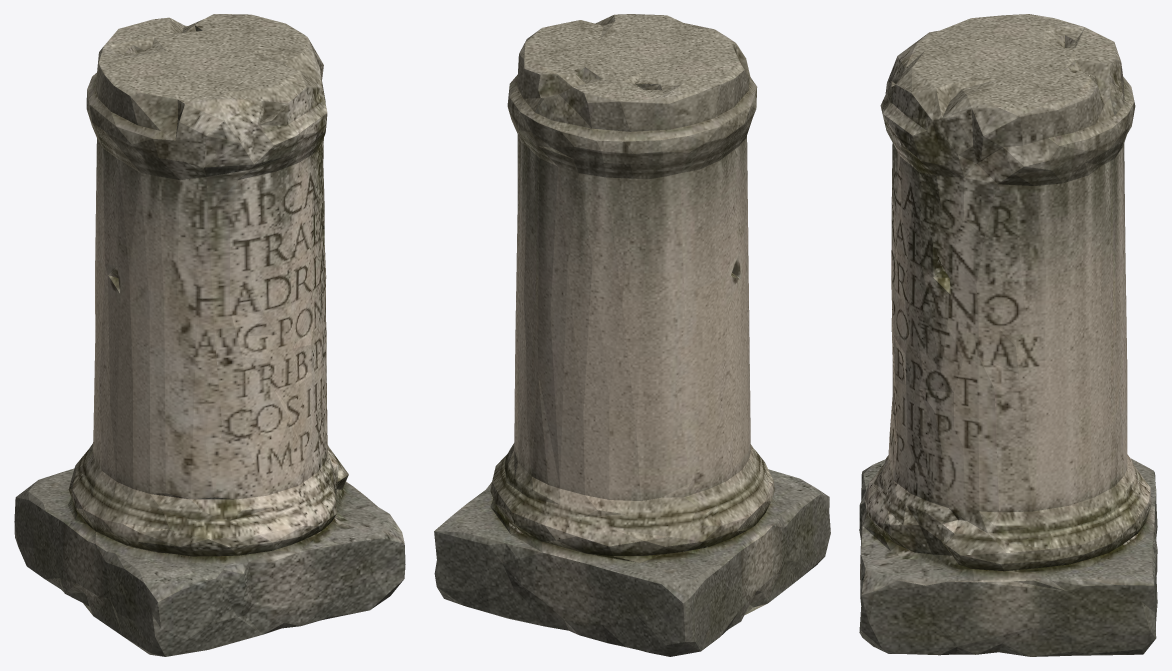
File: mile.glb
The picture shows the model from 3 angles, left to right: view 1: azimuth 30°, elevation 25°; view 2: azimuth 150°, elevation 25°; view 3: azimuth 270°, elevation 25°; orthographic projection.
Visible parts, largest first — view 1: lo; view 2: lo; view 3: lo.
Part boxes in pixels (<box>): lo: <box>14,14,405,656</box>; lo: <box>434,14,830,656</box>; lo: <box>859,14,1157,656</box>.
Bounding box in the file's own units: 0.5118 × 0.9998 × 0.5051.
1 material, 1 textured.
